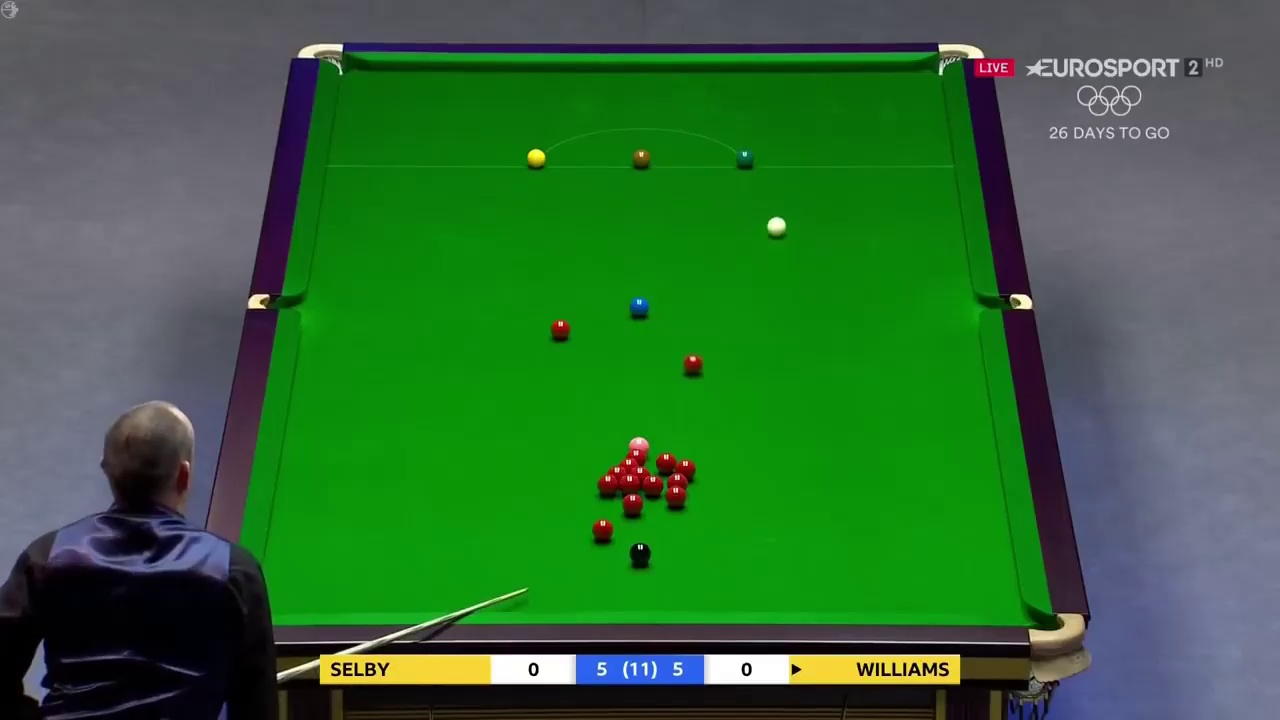ball: (684, 350, 704, 378), (526, 146, 547, 171), (767, 214, 787, 240), (732, 147, 755, 169), (627, 543, 651, 564), (664, 483, 685, 506), (551, 317, 569, 340), (624, 494, 641, 517), (627, 298, 648, 316), (594, 519, 611, 541), (632, 149, 650, 169)
